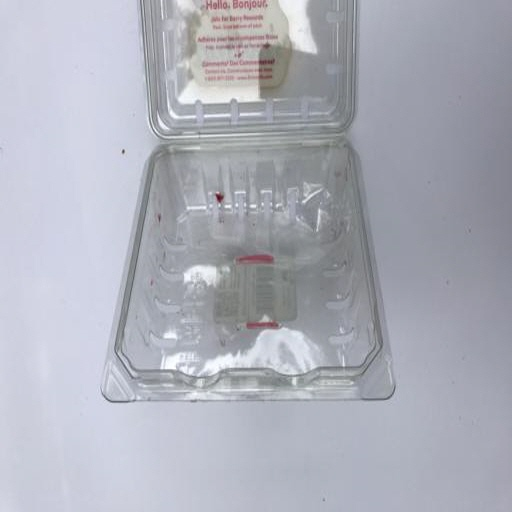Plastic_4: (98, 1, 398, 401)
